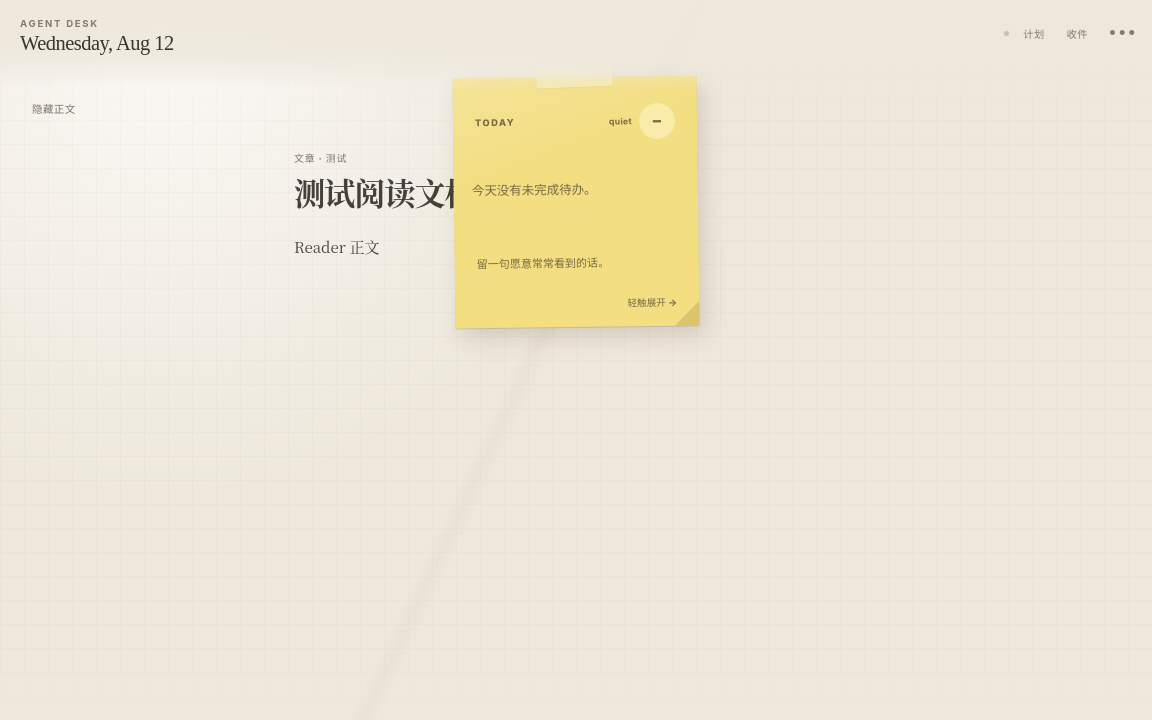
StickyHome M1-B4 › offers all four Window Size Presets with Mini Tab production behavior
Click the button named "外观与窗口设置": (1117, 33) [1102,18,1132,48]
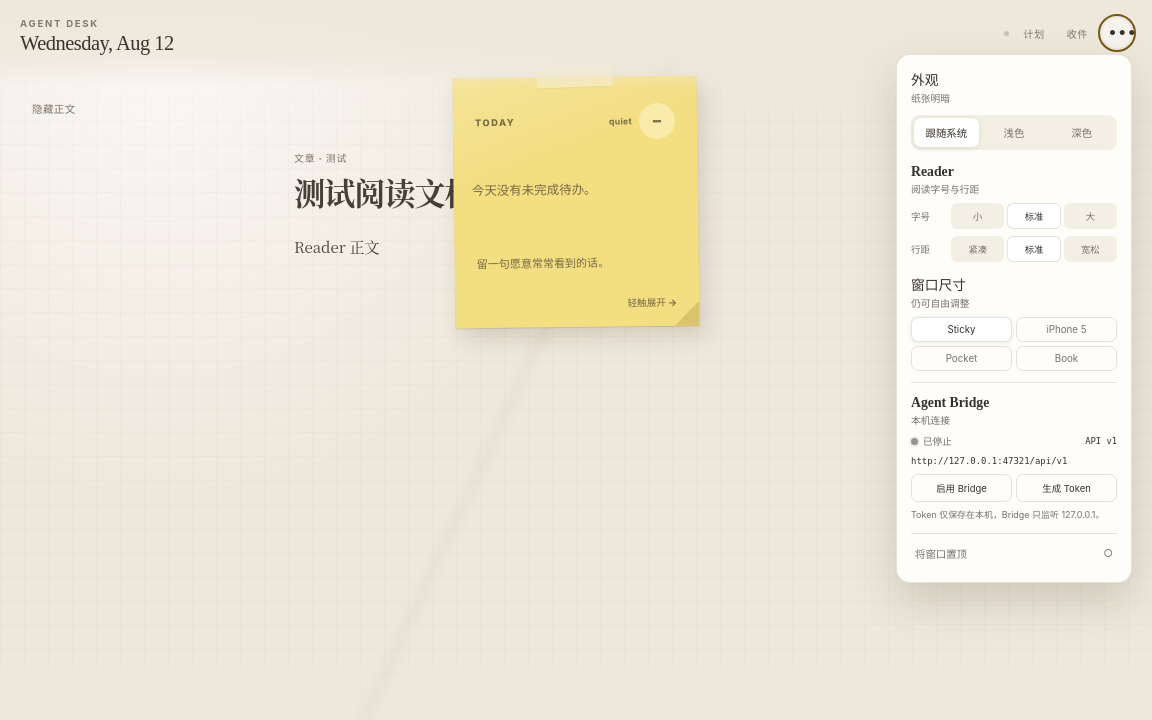
Check: the button "Sticky" is shown, box [911,317,1012,342]
Check: the button "iPhone 5" is shown, box [1016,317,1117,342]
Check: the button "Pocket" is shown, box [911,346,1012,371]
